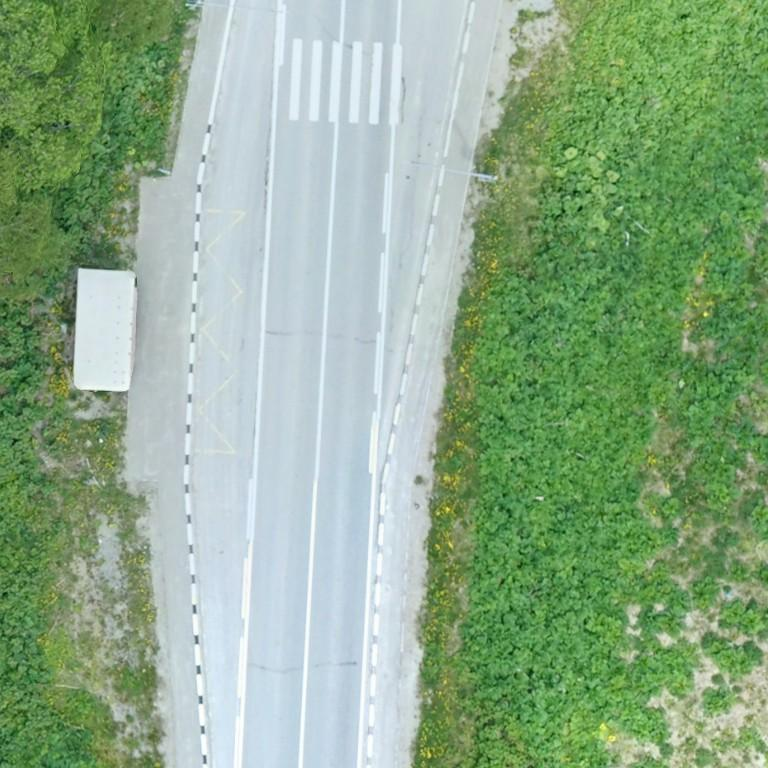hogweed: (451, 0, 767, 767), (0, 303, 95, 767), (54, 47, 167, 232), (705, 633, 761, 676), (723, 600, 767, 634), (746, 493, 767, 539), (753, 225, 767, 278), (706, 689, 733, 712), (693, 576, 713, 607), (660, 498, 681, 517), (731, 563, 748, 581), (761, 564, 767, 588)
